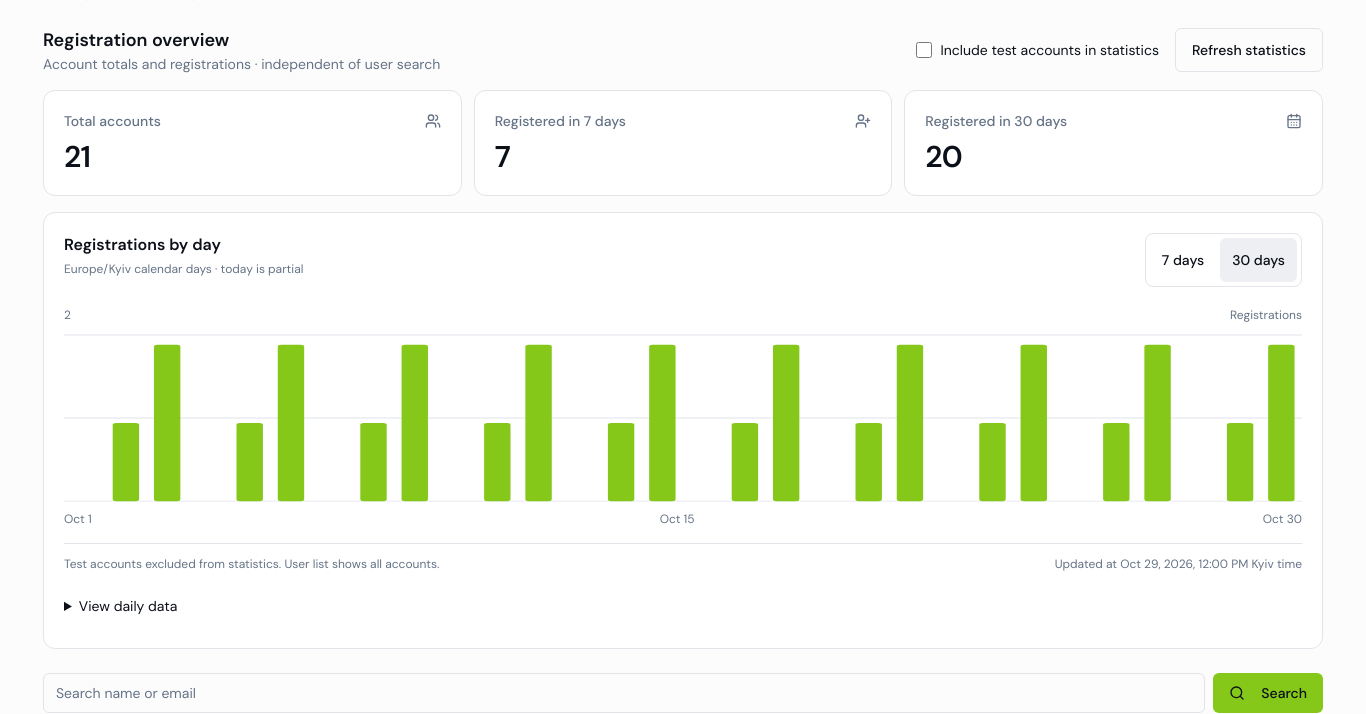
it: Admin access and user list › shows an empty result and a retryable error preserving typed search
The image size is (1366, 714).
Type "missing" into the field at (624, 693), box [43, 673, 1205, 713]
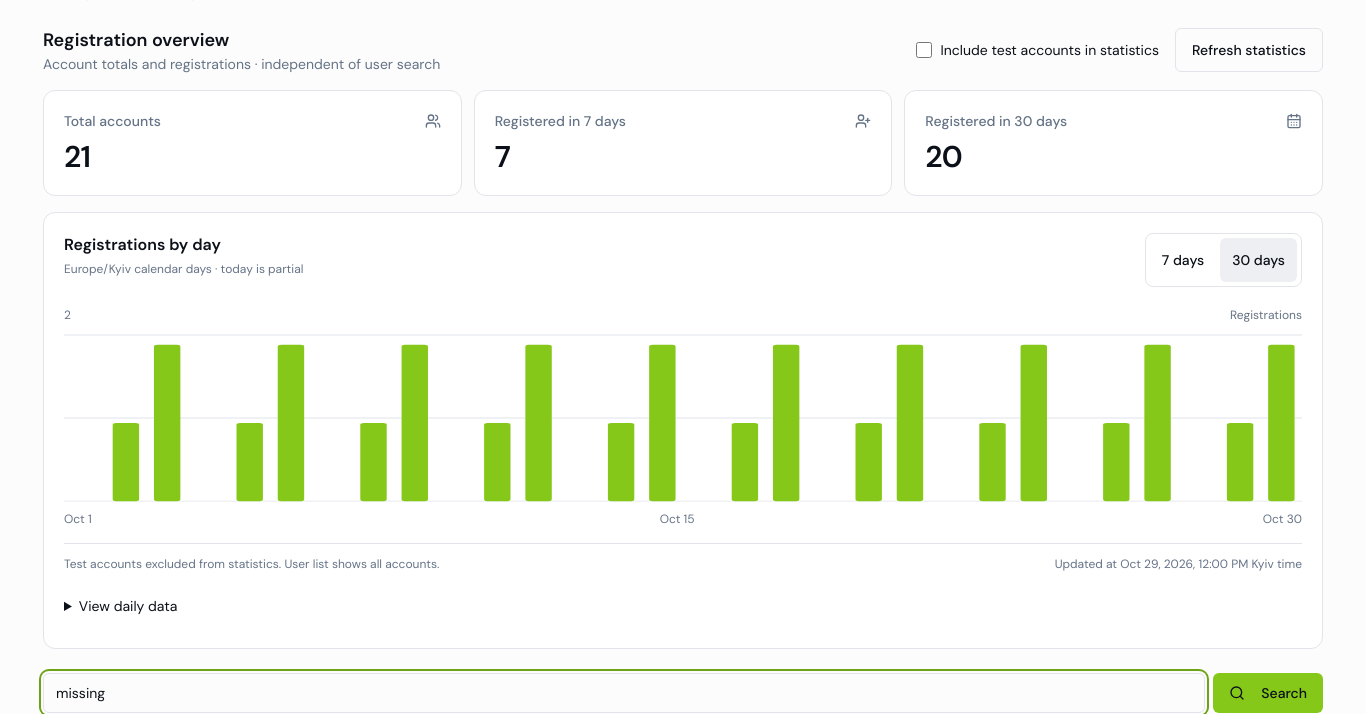
Click the button "Search" at (1268, 693), box [1213, 673, 1323, 713]
(page scrolled)
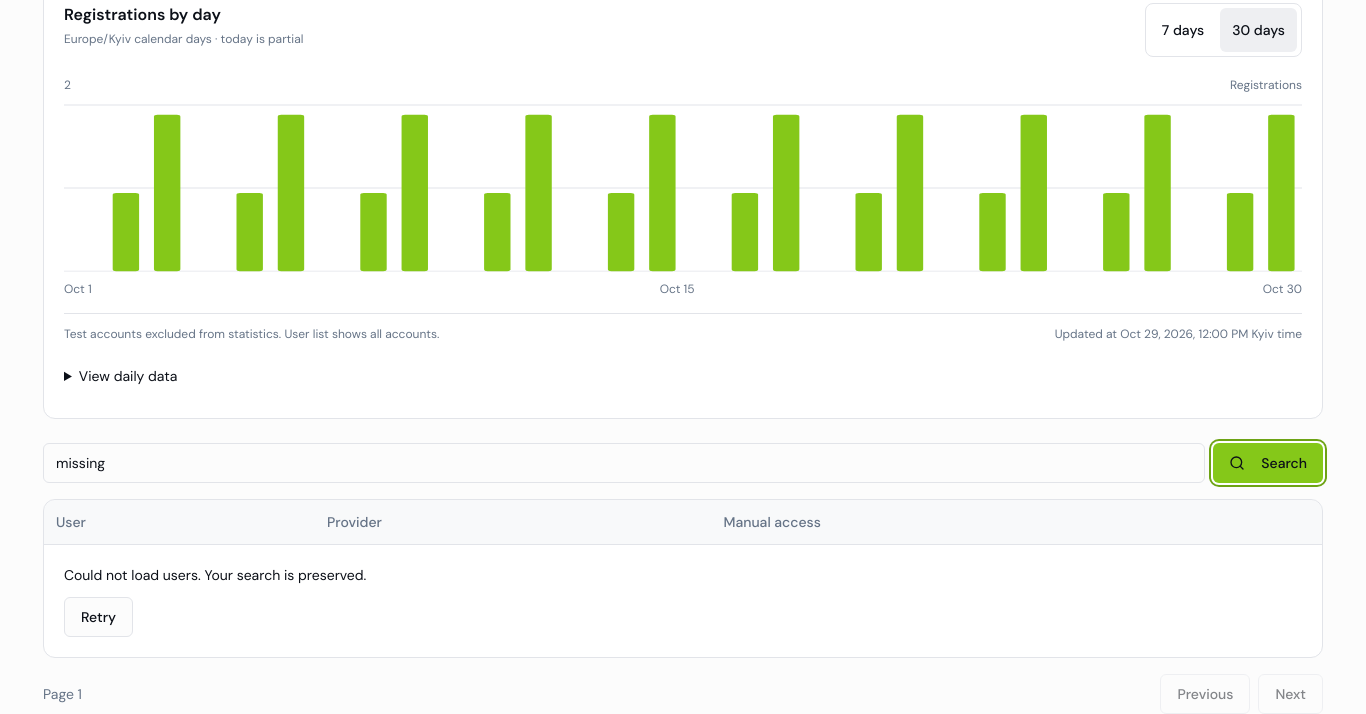
Expected: the message shows "Could not load users", [64, 566, 366, 584]
Click the button "Retry" at (98, 617), box [64, 597, 133, 637]
(page scrolled)
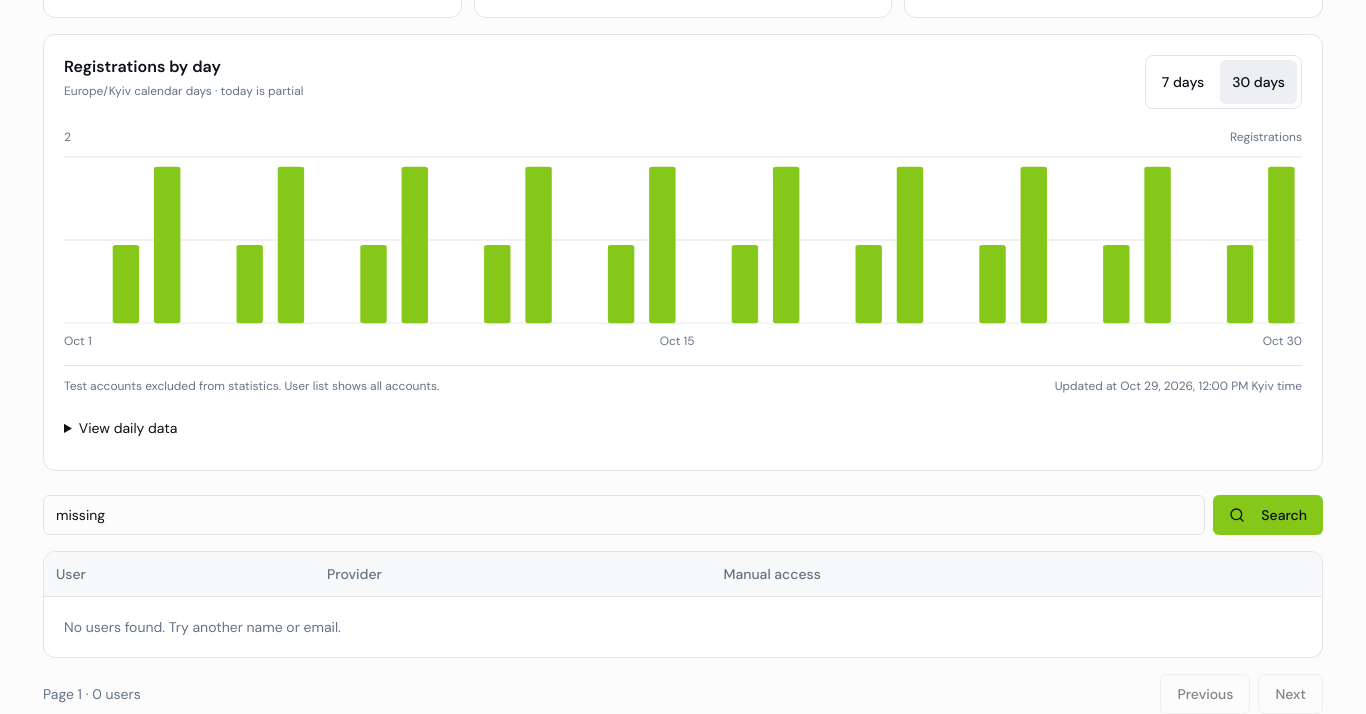
Expected: the text "No users found. Try another name or email." is shown, [44, 596, 1322, 657]
